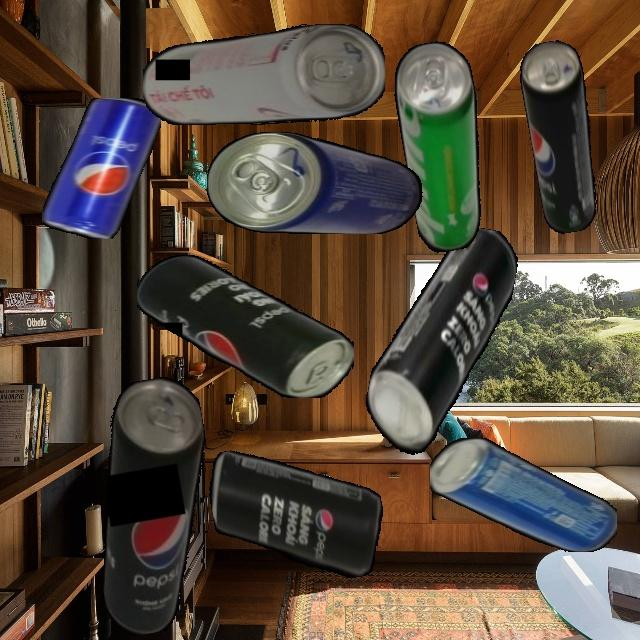debris: (68, 372, 237, 640), (358, 214, 522, 473), (203, 427, 393, 599), (137, 254, 354, 398), (387, 37, 501, 255), (142, 24, 385, 125), (207, 131, 429, 234), (429, 438, 617, 552), (515, 37, 610, 236), (41, 98, 161, 239)
